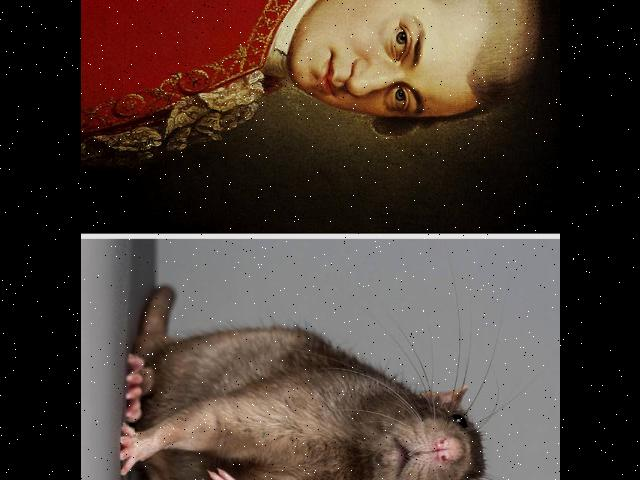Tikus: (113, 287, 513, 480)
